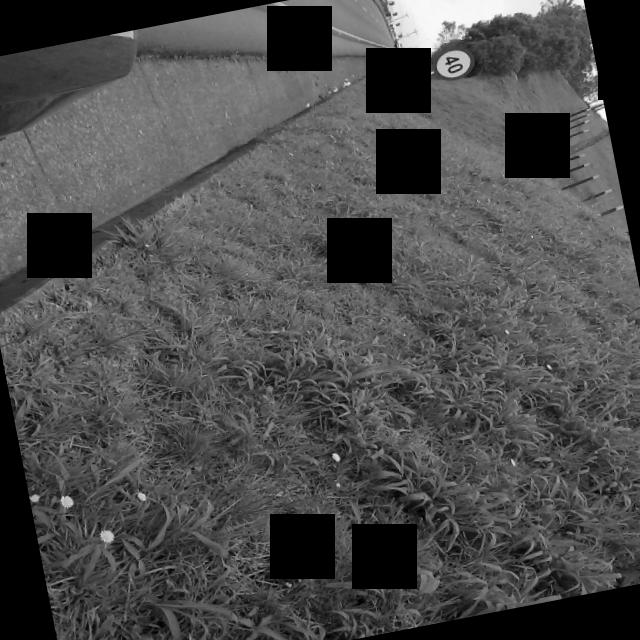DITCH: (0, 0, 595, 640), (0, 0, 551, 640), (0, 3, 435, 320)
